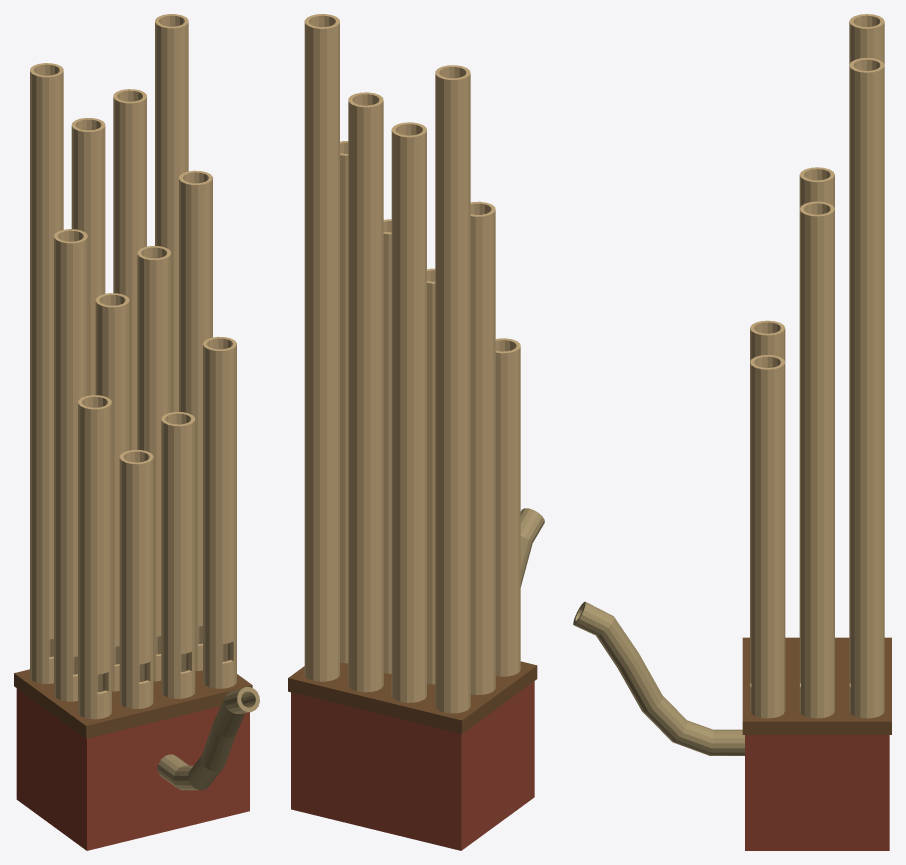
3 renders of one model, left to right at view 1: azimuth 30°, elevation 25°; view 2: azimuth 150°, elevation 25°; view 3: azimuth 270°, elevation 25°, orthographic. The views are drawn at different scales.
Parts seen in each view (by area): view 1: WholeGroundFootHollowWindchest, WholeOpenTopAndFingerPortPipe_2_0, WholeOpenTopAndFingerPortPipe_1_0, WholeOpenTopAndFingerPortPipe_0_3, WholeOpenTopAndFingerPortPipe_0_0, WholeOpenTopAndFingerPortPipe_0_2, WholeOpenTopAndFingerPortPipe_1_3, WholeOpenTopAndFingerPortPipe_0_1, WholeOpenTopAndFingerPortPipe_1_2, WholeOpenTopAndFingerPortPipe_2_3, WholeOpenTopAndFingerPortPipe_2_2, WholeOpenTopAndFingerPortPipe_1_1 (+3 smaller); view 2: WholeGroundFootHollowWindchest, WholeOpenTopAndFingerPortPipe_2_3, WholeOpenTopAndFingerPortPipe_2_0, WholeOpenTopAndFingerPortPipe_2_2, WholeOpenTopAndFingerPortPipe_2_1, WholeOpenTopAndFingerPortPipe_1_0, WholeOpenTopAndFingerPortPipe_0_0, WholeTwelveSocketThickLid, WholeOpenTopAndFingerPortPipe_1_3, WholeOpenTopAndFingerPortPipe_1_2, WholeOpenTopAndFingerPortPipe_1_1, WholeCurvedOpenMouthBranch; view 3: WholeOpenTopAndFingerPortPipe_2_3, WholeOpenTopAndFingerPortPipe_1_3, WholeGroundFootHollowWindchest, WholeOpenTopAndFingerPortPipe_0_3, WholeTwelveSocketThickLid, WholeCurvedOpenMouthBranch, WholeOpenTopAndFingerPortPipe_2_0, WholeOpenTopAndFingerPortPipe_1_0, WholeOpenTopAndFingerPortPipe_0_0.
Part boxes in pixels (x1,y1,x2,y2): WholeGroundFootHollowWindchest: (16,688,249,850); WholeOpenTopAndFingerPortPipe_2_0: (30,63,63,683); WholeOpenTopAndFingerPortPipe_1_0: (54,229,87,701); WholeOpenTopAndFingerPortPipe_0_3: (203,336,236,688); WholeOpenTopAndFingerPortPipe_0_0: (78,395,111,719); WholeOpenTopAndFingerPortPipe_0_2: (161,412,195,698); WholeOpenTopAndFingerPortPipe_1_3: (179,170,212,671); WholeOpenTopAndFingerPortPipe_0_1: (119,450,153,708); WholeOpenTopAndFingerPortPipe_1_2: (137,246,171,681); WholeOpenTopAndFingerPortPipe_2_3: (155,14,188,412); WholeOpenTopAndFingerPortPipe_2_2: (113,89,146,450); WholeOpenTopAndFingerPortPipe_1_1: (95,293,129,691); WholeGroundFootHollowWindchest: (291,681,534,850); WholeOpenTopAndFingerPortPipe_2_3: (304,14,339,681); WholeOpenTopAndFingerPortPipe_2_0: (435,65,470,713); WholeOpenTopAndFingerPortPipe_2_2: (348,92,383,692); WholeOpenTopAndFingerPortPipe_2_1: (391,122,426,702); WholeOpenTopAndFingerPortPipe_1_0: (470,201,495,694); WholeOpenTopAndFingerPortPipe_0_0: (495,338,520,676); WholeTwelveSocketThickLid: (288,661,537,733); WholeOpenTopAndFingerPortPipe_1_3: (340,141,348,663); WholeOpenTopAndFingerPortPipe_1_2: (383,219,391,673); WholeOpenTopAndFingerPortPipe_1_1: (427,268,435,684); WholeCurvedOpenMouthBranch: (520,508,544,587); WholeOpenTopAndFingerPortPipe_2_3: (849,58,884,718); WholeOpenTopAndFingerPortPipe_1_3: (799,201,834,718); WholeGroundFootHollowWindchest: (745,735,889,850); WholeOpenTopAndFingerPortPipe_0_3: (750,355,785,718); WholeTwelveSocketThickLid: (742,637,891,734); WholeCurvedOpenMouthBranch: (573,601,744,755); WholeOpenTopAndFingerPortPipe_2_0: (849,14,884,64); WholeOpenTopAndFingerPortPipe_1_0: (799,167,834,208); WholeOpenTopAndFingerPortPipe_0_0: (750,320,785,361).
Bounding box in the file's own units: 0.188 × 0.81 × 0.3015.
